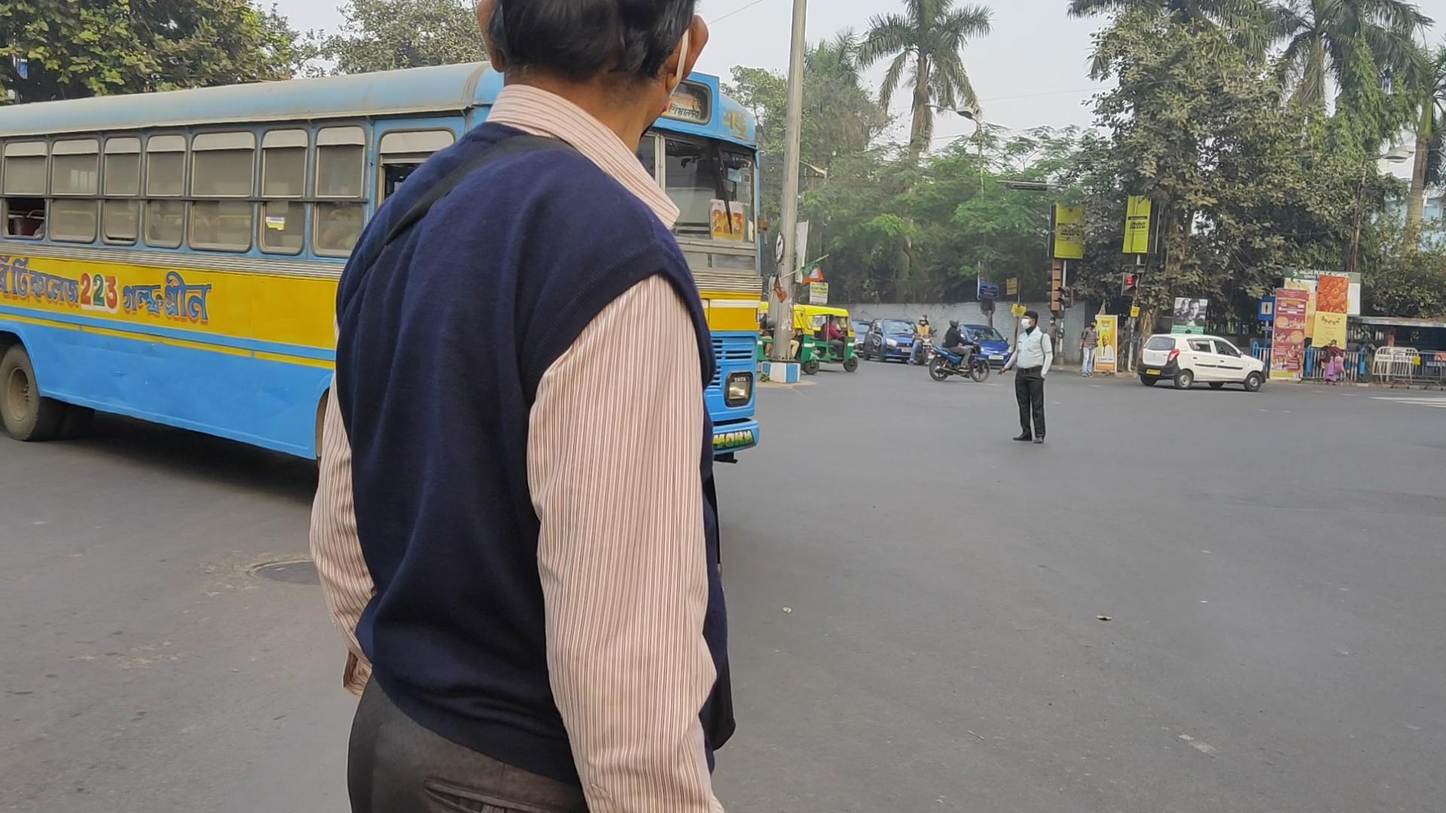Auto: (760, 303, 819, 377), (803, 304, 859, 373)
Bus: (2, 62, 759, 525)
bike: (929, 318, 991, 383), (908, 318, 938, 367)
car: (1136, 333, 1267, 393), (862, 318, 923, 364), (953, 324, 1011, 370)
